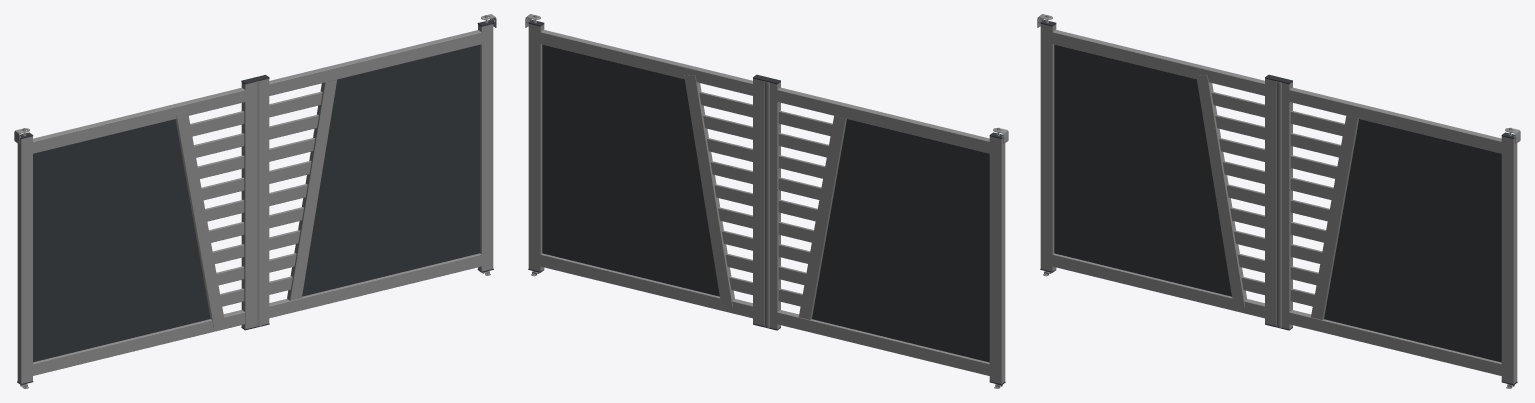
3 views of the same model, side by side, from view 1: azimuth 30°, elevation 25°; view 2: azimuth 150°, elevation 25°; view 3: azimuth 330°, elevation 25° (orthographic).
Parts seen in each view (by area): view 1: Chapa Alucobond041, Chapa Alucobond002, Shape107412643, Shape107412638, Shape107412740, Shape107412791, Shape107411740, Shape107412793, Shape332, Shape107412792, Shape107411741, Shape107412739 (+15 smaller); view 2: Chapa Alucobond002, Chapa Alucobond041, Shape107412643, Shape107412740, Shape107411740, Shape107412791, Shape107412793, Shape107411741, Shape107412792, Shape107412739, Shape332, Shape107412638 (+15 smaller); view 3: Chapa Alucobond002, Chapa Alucobond041, Shape107412740, Shape107412643, Shape107412791, Shape107411740, Shape332, Shape107412792, Shape107411741, Shape107412638, Shape107412793, Shape107412739 (+15 smaller).
Boxes of the visible parts, x1,y1,x2,y2 form: Chapa Alucobond041: (302,45,479,296); Chapa Alucobond002: (33,119,210,362); Shape107412643: (17,136,32,383); Shape107412638: (241,81,256,329); Shape107412740: (478,24,493,271); Shape107412791: (269,30,481,95); Shape107411740: (33,87,245,153); Shape107412793: (287,79,336,300); Shape332: (175,110,224,327); Shape107412792: (269,253,481,318); Shape107411741: (33,310,244,375); Shape107412739: (258,78,269,324); Chapa Alucobond002: (812,119,989,362); Chapa Alucobond041: (542,44,719,296); Shape107412643: (989,136,1005,383); Shape107412740: (528,24,544,271); Shape107411740: (777,87,989,153); Shape107412791: (540,30,752,95); Shape107412793: (684,75,734,307); Shape107411741: (777,310,989,375); Shape107412792: (540,253,752,318); Shape107412739: (753,78,764,326); Shape332: (799,116,846,319); Shape107412638: (765,81,780,329); Chapa Alucobond002: (1054,44,1231,296); Chapa Alucobond041: (1324,119,1501,362); Shape107412740: (1501,136,1517,383); Shape107412643: (1040,24,1056,271); Shape107412791: (1289,87,1501,153); Shape107411740: (1052,30,1264,95); Shape332: (1196,75,1246,307); Shape107412792: (1289,310,1501,375); Shape107411741: (1052,253,1264,318); Shape107412638: (1265,78,1276,326); Shape107412793: (1311,116,1358,319); Shape107412739: (1277,81,1292,329).
Size of the model in its own units: 3260 by 1688 by 68.93.
5 materials, 2 textured.
